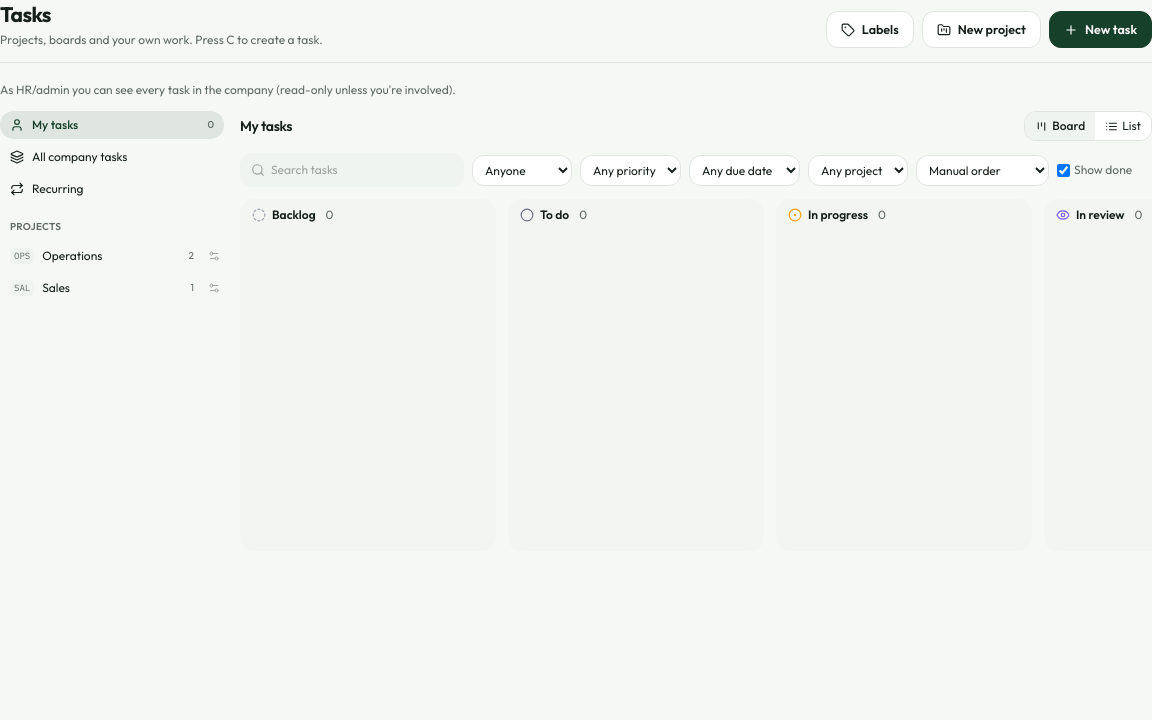
TaskWorkspace (HR and admins oversee) › a task they are not involved in opens read-only
Expected: the text "As HR/admin" is shown, [0, 82, 456, 97]
Click the button "All company tasks": point(112, 157) [0, 143, 224, 171]
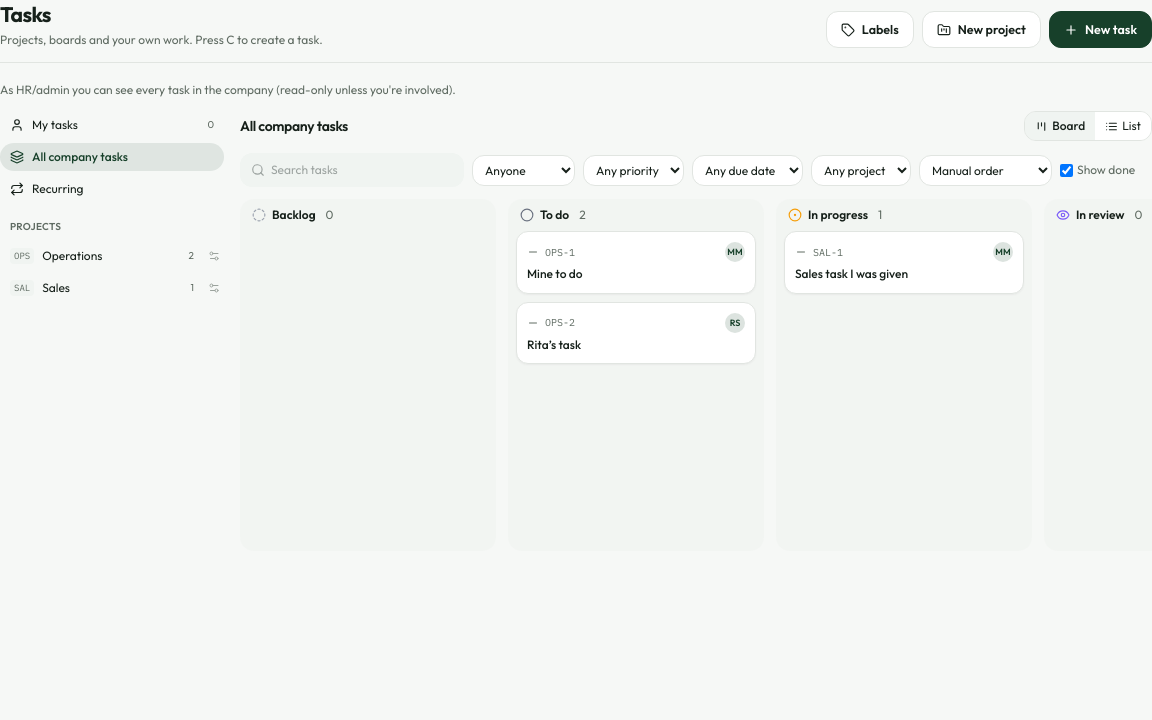
Click the text "Rita’s task": point(554, 344) [527, 336, 581, 352]
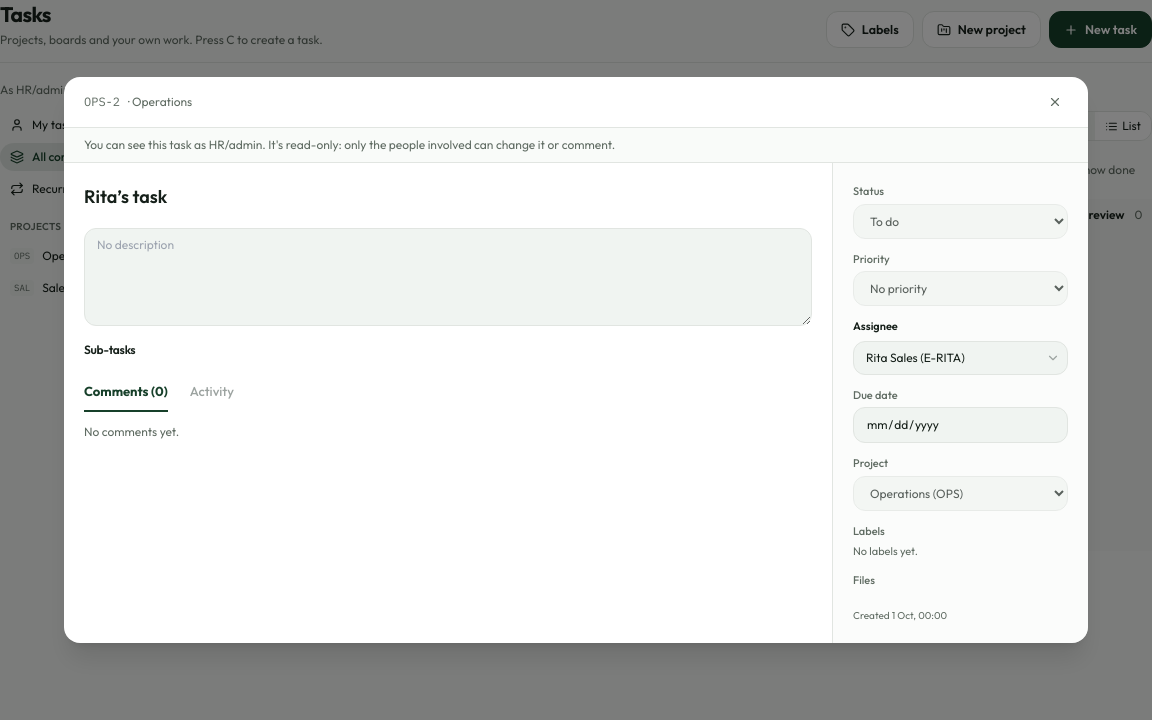
Now the text "You can see this task as HR/admin. It's read-only" is shown, box [84, 137, 615, 152]
Now the dropdown labelled "Status" is disabled, box [853, 204, 1068, 238]
